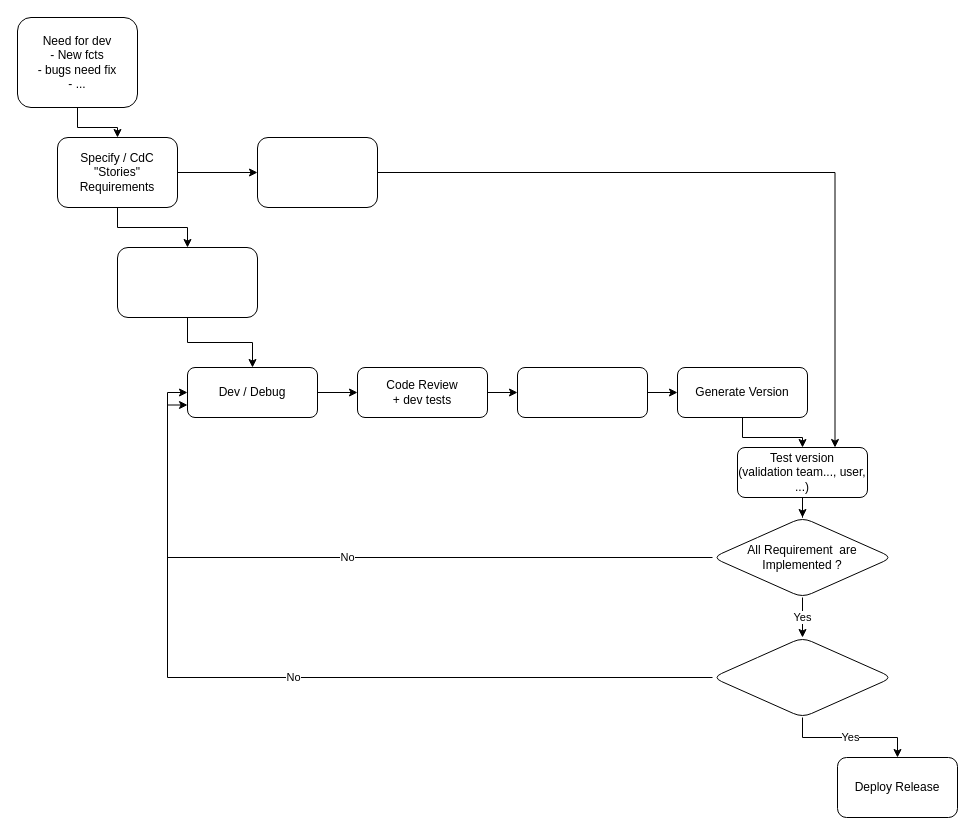
Image size: 975x835. Some labels were removed from this diagram. Each missing label, with the centre of its shape:
Automatic Test CI / CD: point (582, 392)
Debug Finished: point (802, 677)
Define tests for each requirement + Tests cases (user scenarii): point (317, 172)
Design... Split Requirement in tasks...: point (187, 282)
